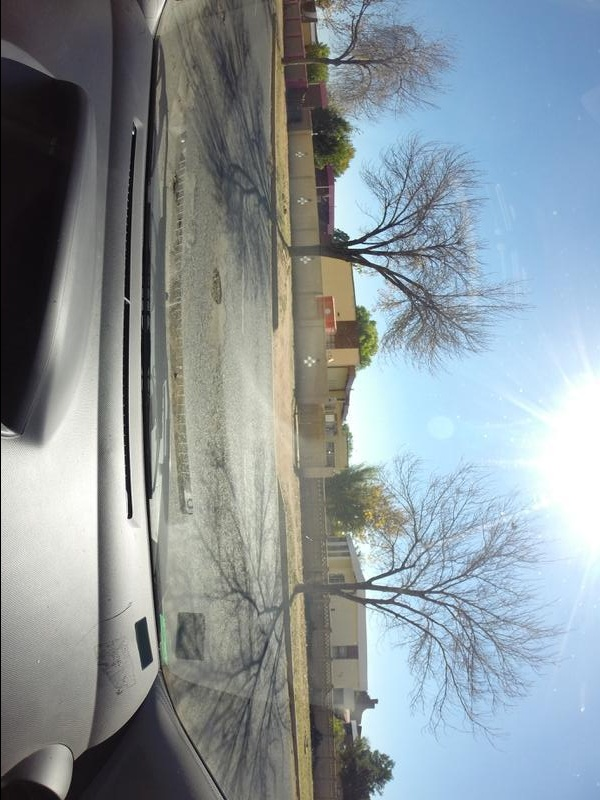pothole: (207, 267, 223, 309), (218, 9, 232, 24)
